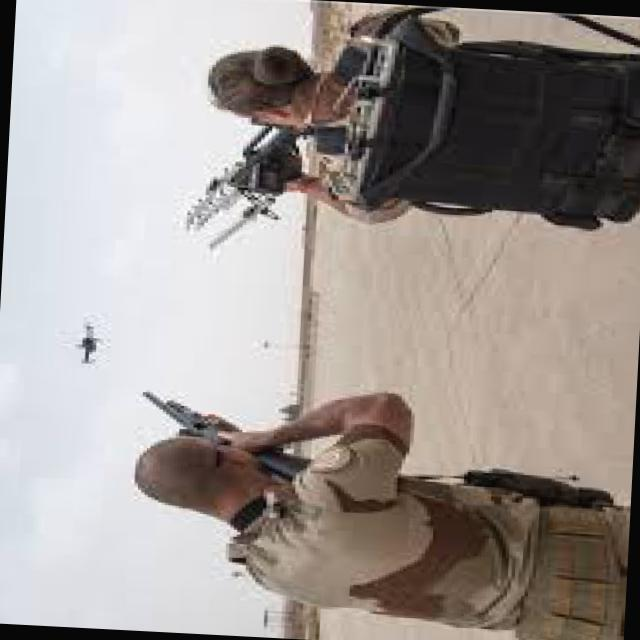long weapon: (129, 380, 318, 476)
